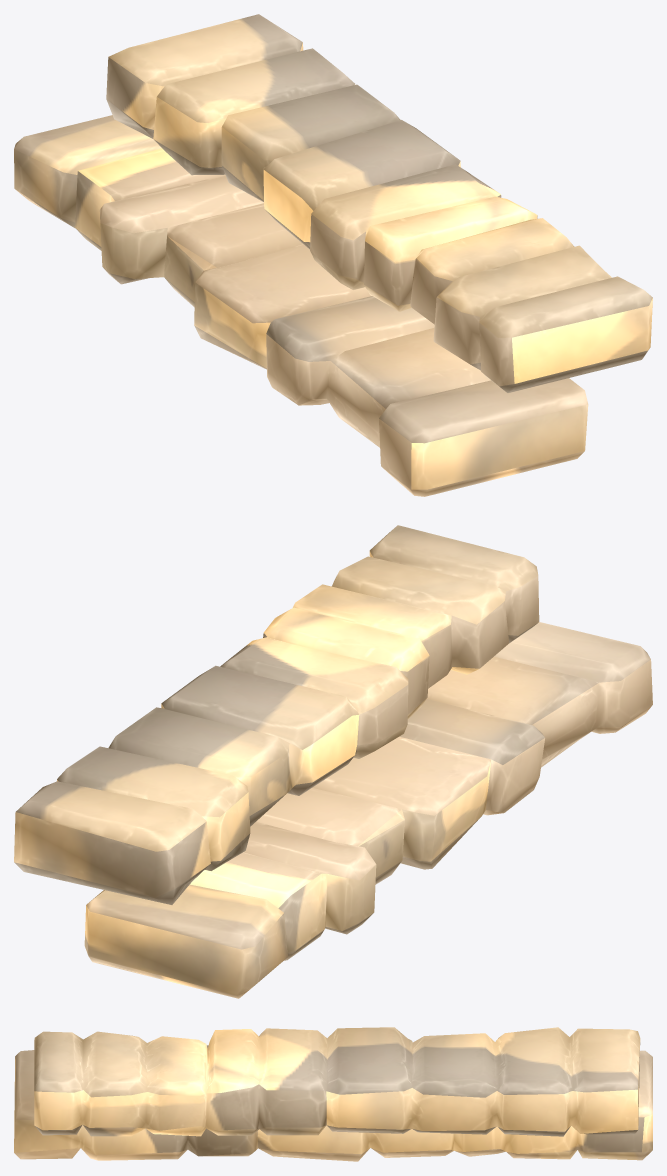
The model's file is SM_Stylized_StepsB.fbx.
3 renders of one model, top to bottom at view 1: azimuth 30°, elevation 25°; view 2: azimuth 150°, elevation 25°; view 3: azimuth 270°, elevation 25°, orthographic. The views are drawn at different scales.
Visible parts, largest first — view 1: SM_Stylized_StepsB_LOD0; view 2: SM_Stylized_StepsB_LOD0; view 3: SM_Stylized_StepsB_LOD0.
Part boxes in pixels (<box>): SM_Stylized_StepsB_LOD0: <box>14,14,652,496</box>; SM_Stylized_StepsB_LOD0: <box>14,525,652,998</box>; SM_Stylized_StepsB_LOD0: <box>14,1027,652,1161</box>.
Size of the model in its own units: 65.97 by 178 by 33.5.
